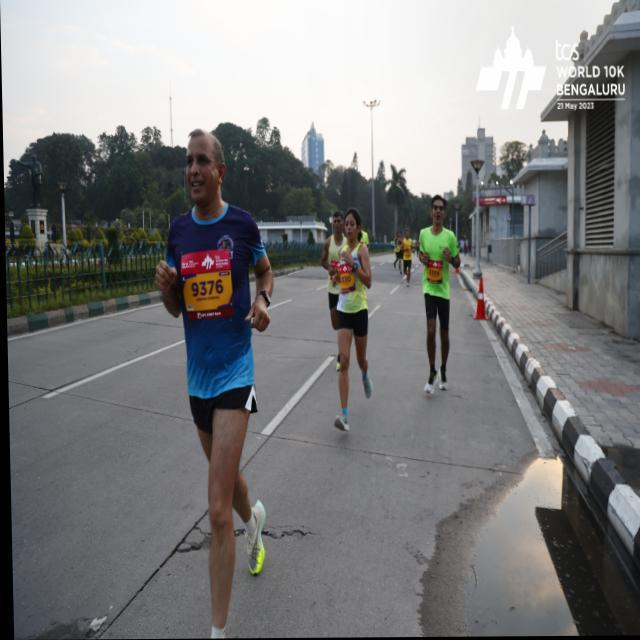dorsal: (178, 248, 236, 323)
